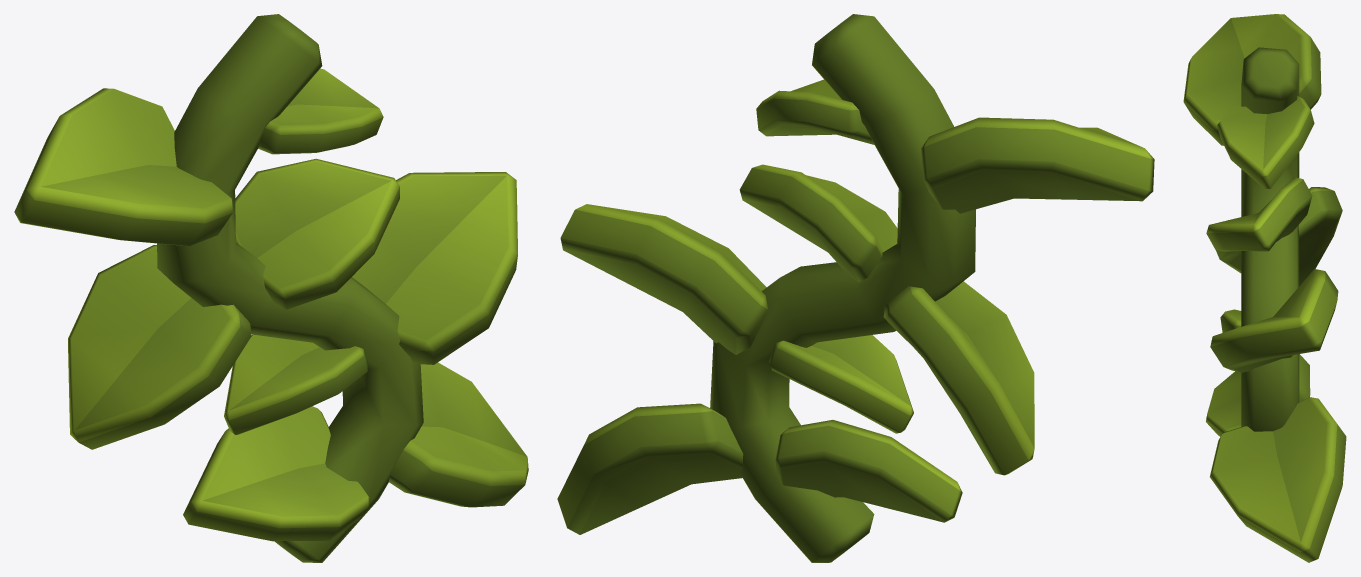
File: vine1_LOD_group.fbx
3 views of the same model, side by side, from view 1: azimuth 30°, elevation 25°; view 2: azimuth 150°, elevation 25°; view 3: azimuth 270°, elevation 25° (orthographic). The views are drawn at different scales.
Parts seen in each view (by area): view 1: vine1_LOD0; view 2: vine1_LOD0; view 3: vine1_LOD0.
Boxes of the visible parts, bbox=[...] form: vine1_LOD0: bbox=[14, 14, 528, 562]; vine1_LOD0: bbox=[557, 14, 1154, 562]; vine1_LOD0: bbox=[1183, 14, 1346, 562].
Size of what is drawn, in the model's own units: 116 by 111 by 39.39.
Materials: 1 (1 with a texture image).
